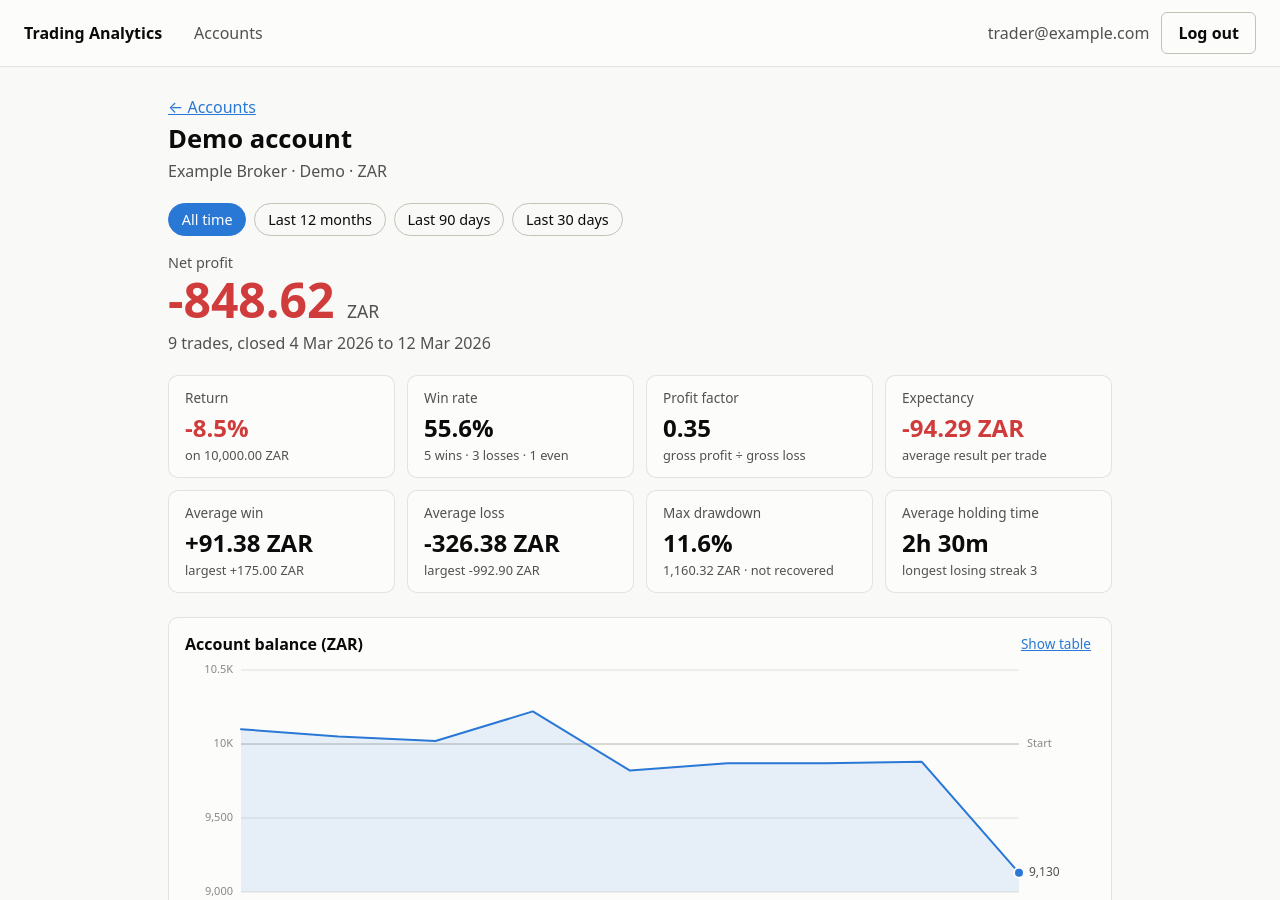
it: account overview › has a table view for the balance chart
Expected: the element "Net profit" is shown, [168,253,491,354]
Click the button "Show table" at point(1056, 644), box [1017,630,1095,658]
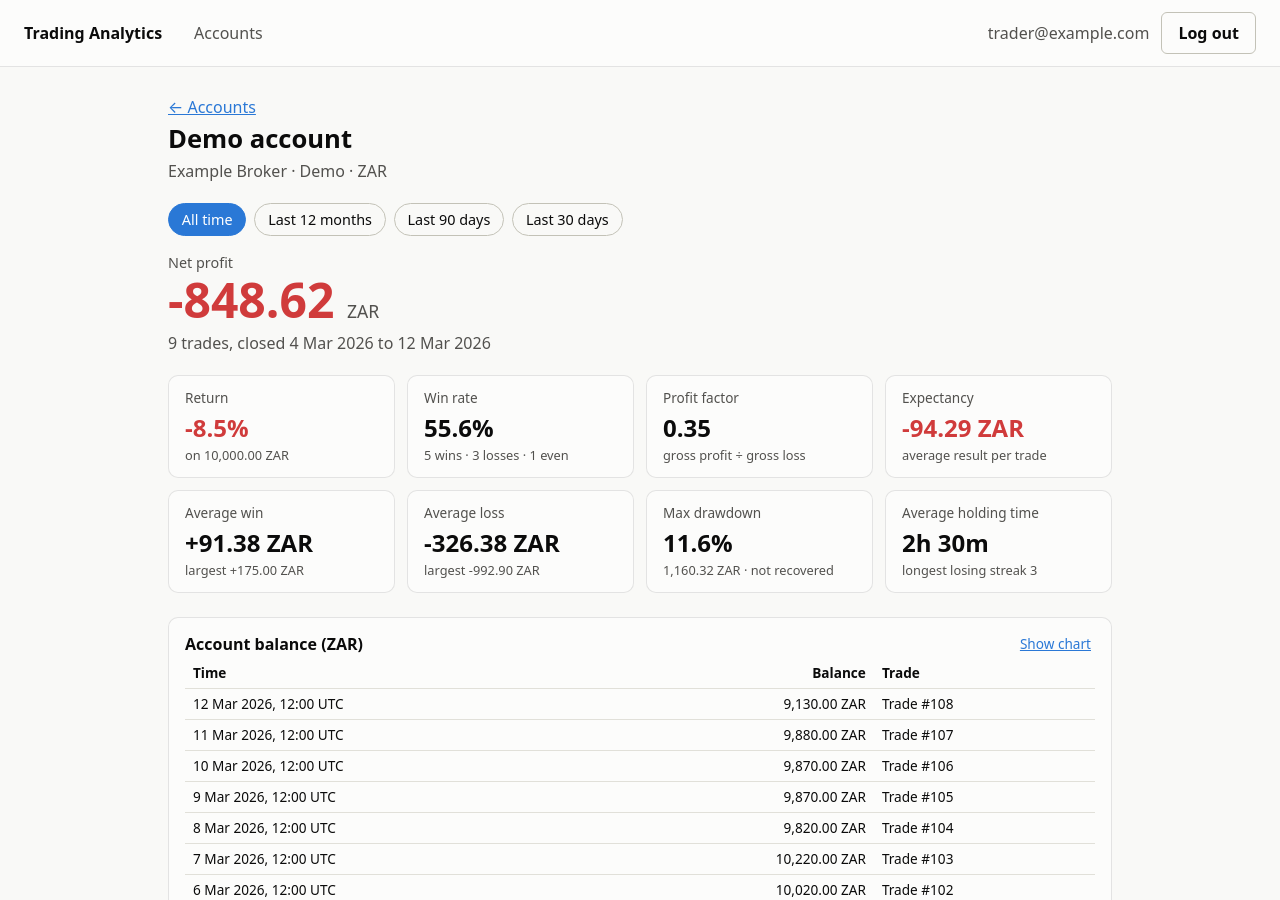
Result: the text "9,130.00 ZAR" is shown at [606,689,874,720]
Result: the text "Trade #108" is shown at [874,689,1095,720]
